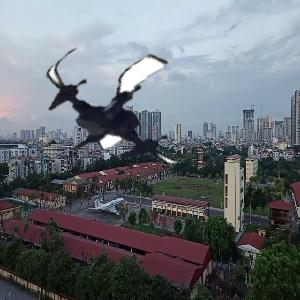drone: (41, 35, 196, 190)
